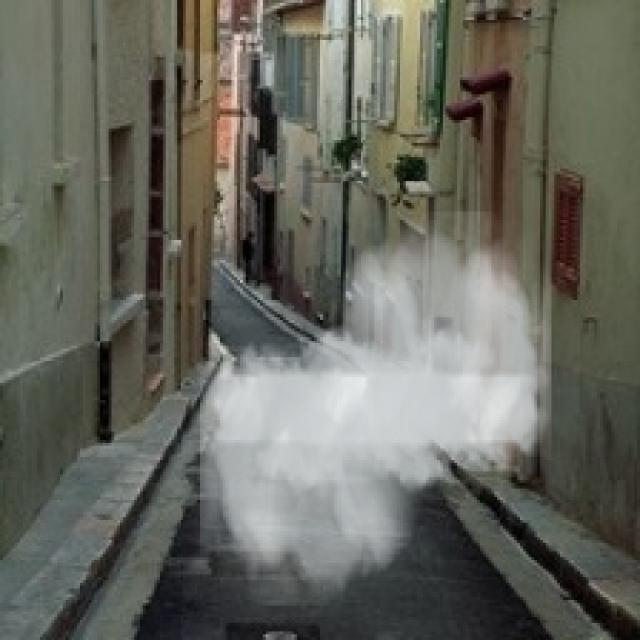Smoke: (199, 211, 552, 606)
